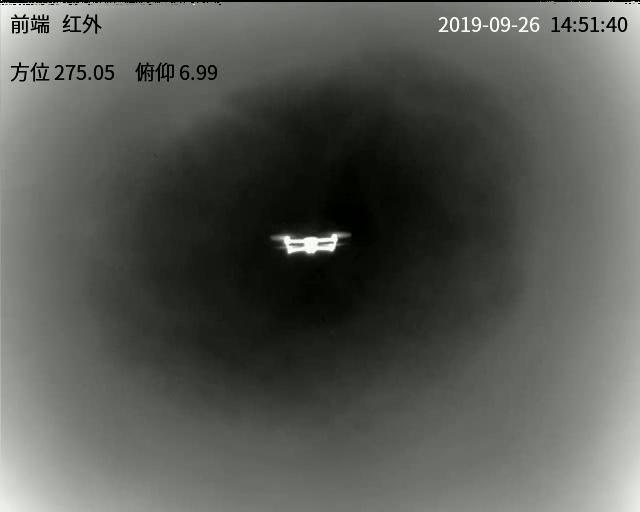DRONE: (274, 231, 344, 255)
